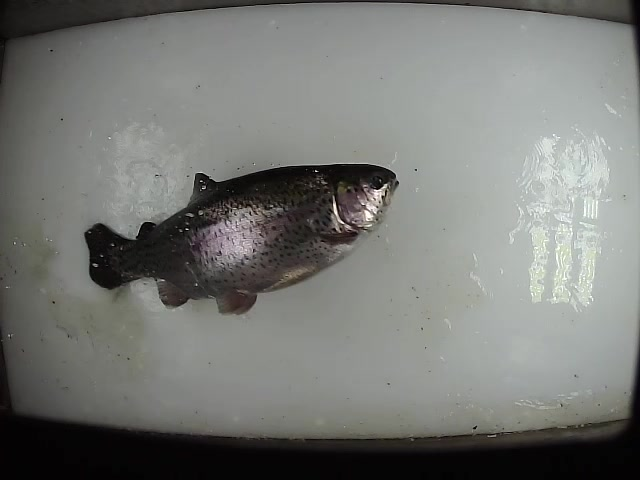fish: (82, 161, 402, 319)
